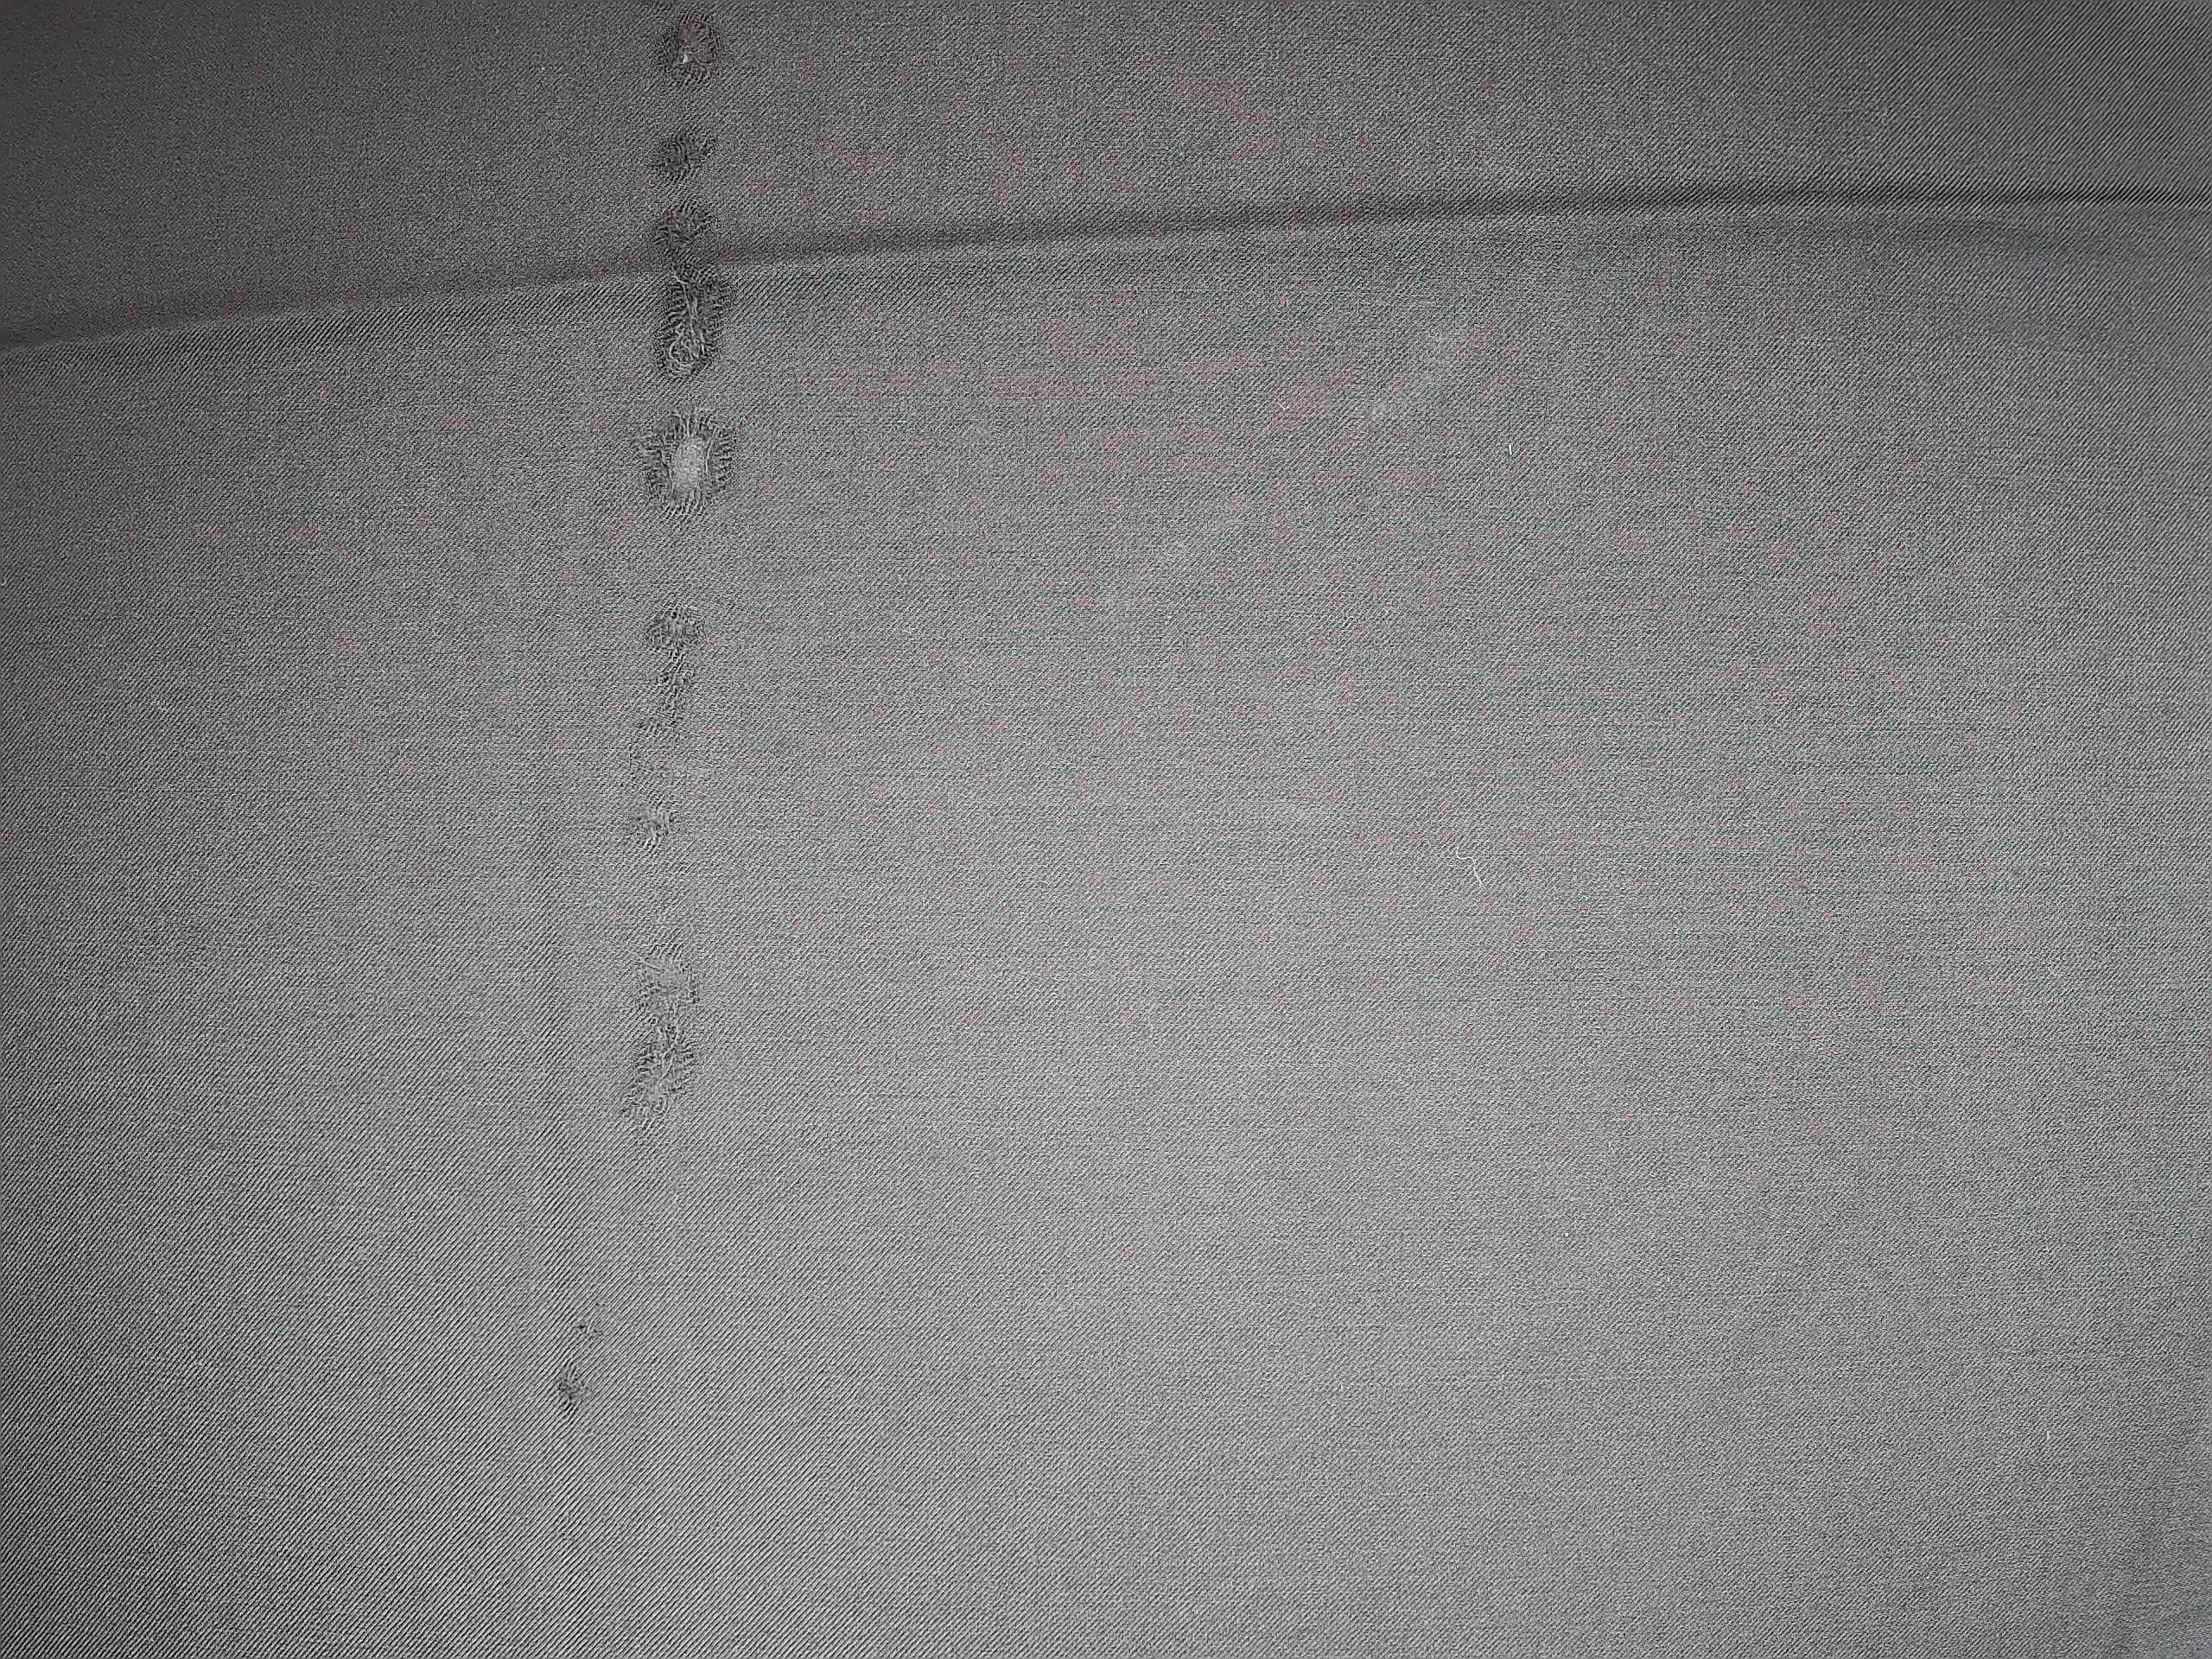rubbing-hole: (536, 19, 758, 1434)
